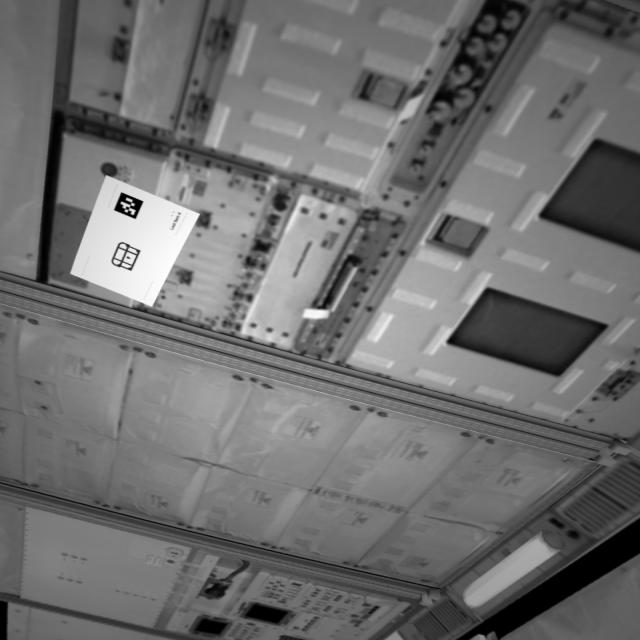treasure_box: (106, 241, 145, 274)
